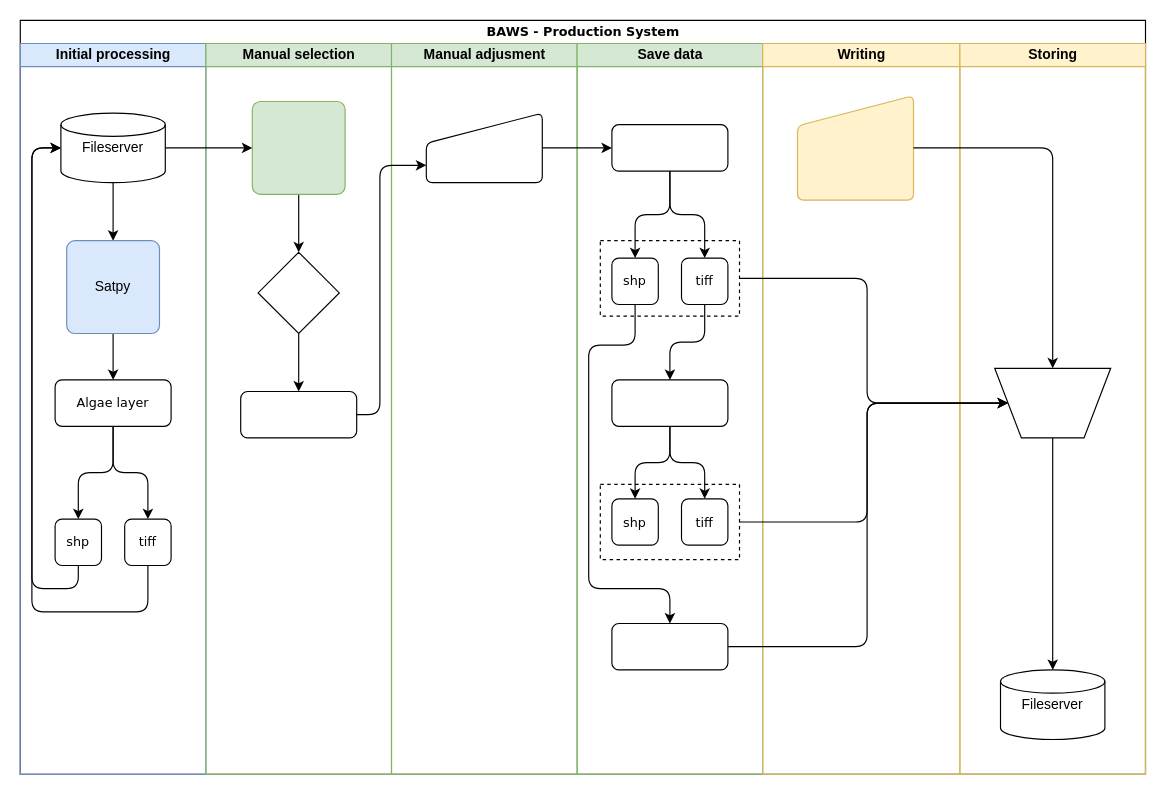
Some shapes in this 1166 by 795 pixel diagram are drawn without their labels. Each missing label, with the centre of its shape:
"Add/adjust/delete algae geometries" goes at point 483,147.
"Copy files to fileserver" goes at point 1052,402.
"Merge tiff-files" goes at point 298,414.
"QGIS" goes at point 298,147.
"Save daymap" goes at point 669,147.
"Save point data for drift forecast" goes at point 669,646.
"Save weekmap" goes at point 669,402.
"Selecting data" goes at point 298,292.
"Text files for: - daymap - weekmap - drift forecast" goes at point 854,147.
